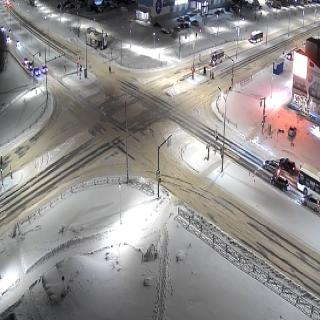large-vehicle: (297, 163, 320, 196), (208, 49, 225, 67), (250, 29, 264, 46)
small-vehicle: (301, 193, 320, 216), (272, 173, 290, 193), (280, 154, 296, 176), (264, 159, 280, 175), (33, 65, 40, 79), (176, 15, 184, 24), (286, 50, 292, 61), (191, 20, 199, 28), (28, 61, 34, 71), (175, 24, 182, 32), (42, 63, 47, 74), (24, 56, 29, 66), (15, 39, 21, 47), (6, 28, 13, 34), (6, 35, 10, 43), (0, 26, 4, 32)
